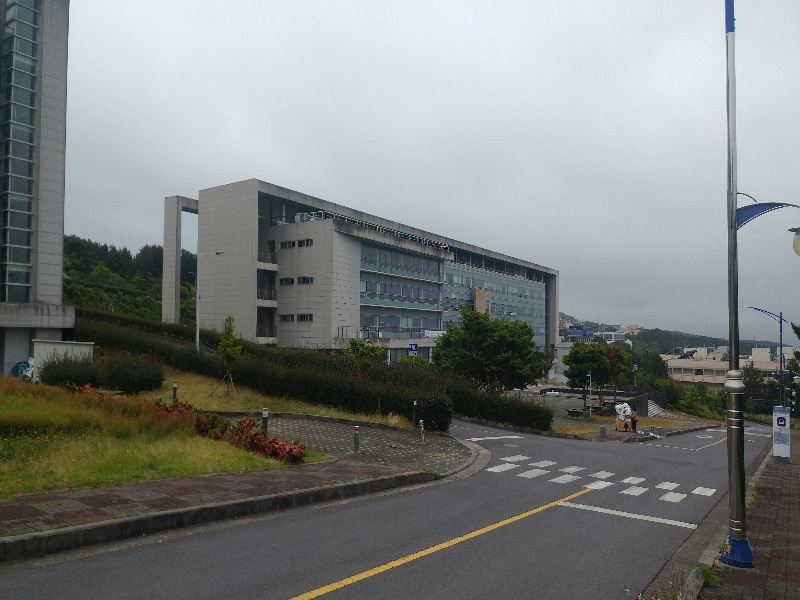Engineering College Building 4: (164, 187, 558, 357), (203, 197, 452, 339)
